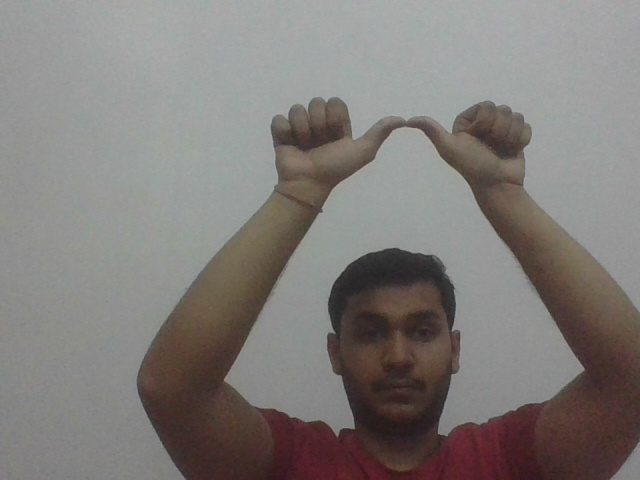A: (269, 94, 533, 189)
